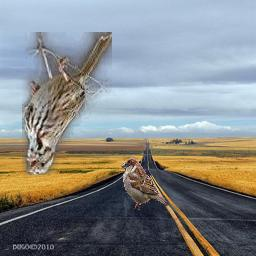Sparrow: (22, 33, 112, 176), (121, 158, 169, 211)
